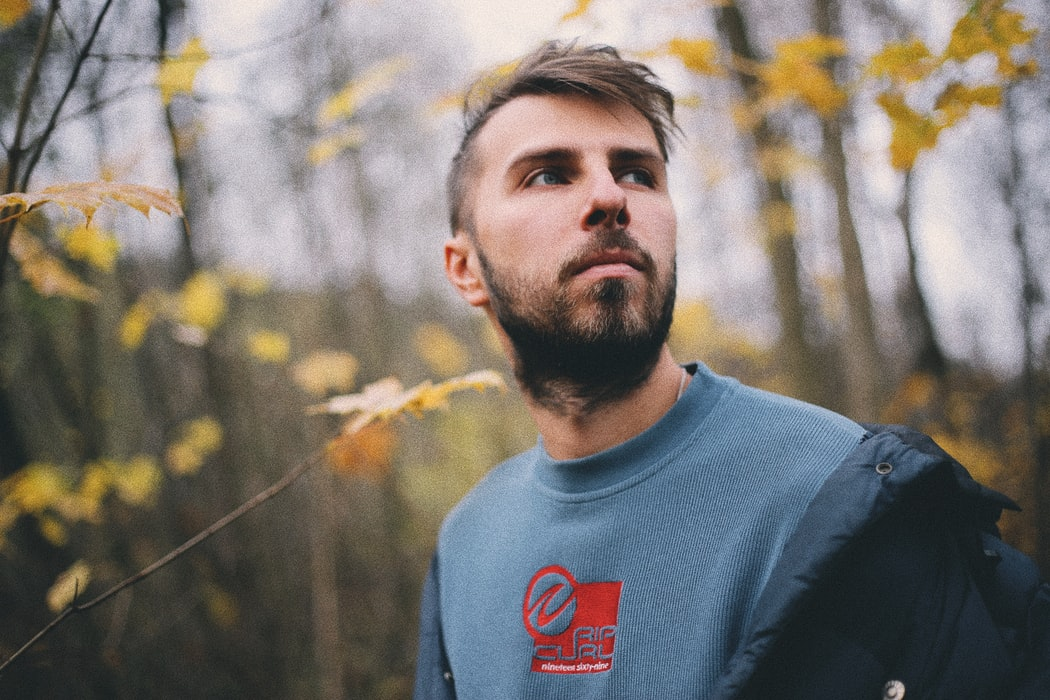beard: (471, 238, 688, 380)
